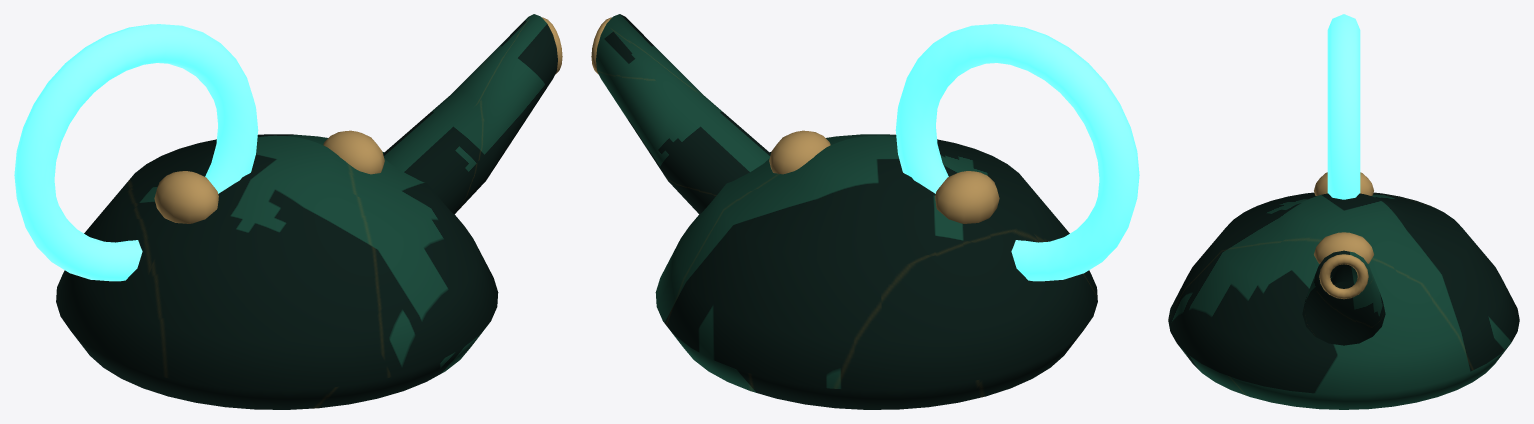
The model's file is ceremonial_lamp_pattern_jade.fbx.
3 renders of one model, left to right at view 1: azimuth 30°, elevation 25°; view 2: azimuth 150°, elevation 25°; view 3: azimuth 270°, elevation 25°, orthographic. The views are drawn at different scales.
Visible parts, largest first — view 1: Reviewed_ceremonial_lamp_Body.005, TH10_Lamp_Handle.008; view 2: Reviewed_ceremonial_lamp_Body.005, TH10_Lamp_Handle.008; view 3: Reviewed_ceremonial_lamp_Body.005, TH10_Lamp_Handle.008.
Part boxes in pixels (x1,y1,x2,y2): Reviewed_ceremonial_lamp_Body.005: [56, 14, 562, 409]; TH10_Lamp_Handle.008: [14, 24, 258, 281]; Reviewed_ceremonial_lamp_Body.005: [591, 14, 1097, 409]; TH10_Lamp_Handle.008: [895, 24, 1139, 281]; Reviewed_ceremonial_lamp_Body.005: [1168, 172, 1519, 409]; TH10_Lamp_Handle.008: [1327, 14, 1360, 199].
Size of the model in its own units: 0.178 by 0.106 by 0.128.
Materials: 3 (1 with a texture image).
